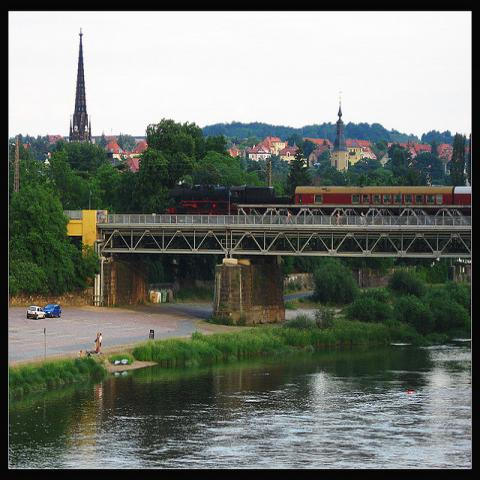car: (26, 306, 46, 320), (43, 304, 62, 317)
